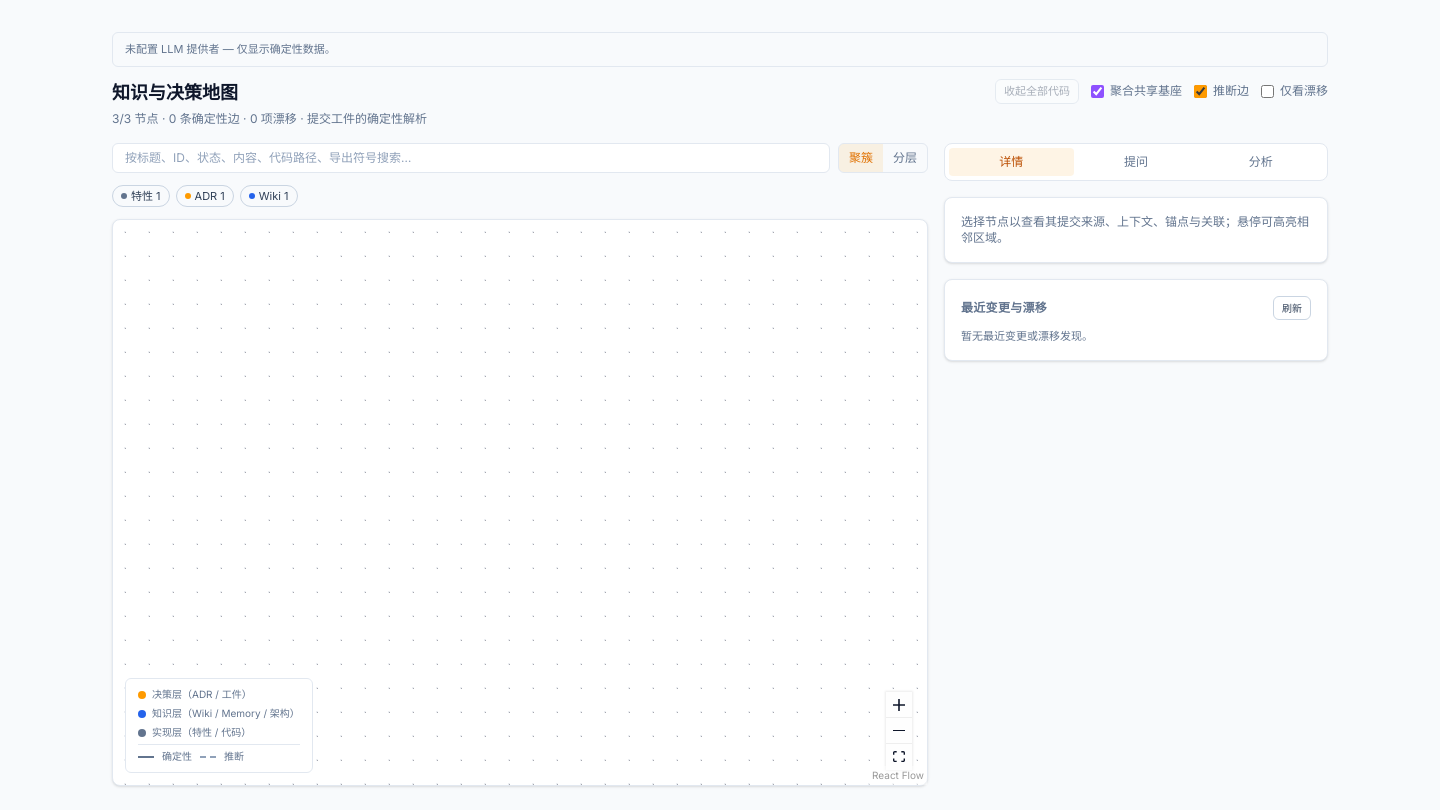
Test: KnowledgeMapPage i18n › renders the Ask disclosure and controls in zh-CN
The image size is (1440, 810).
Click the button "提问": (1136, 162) x1=1074 y1=148 x2=1198 y2=176
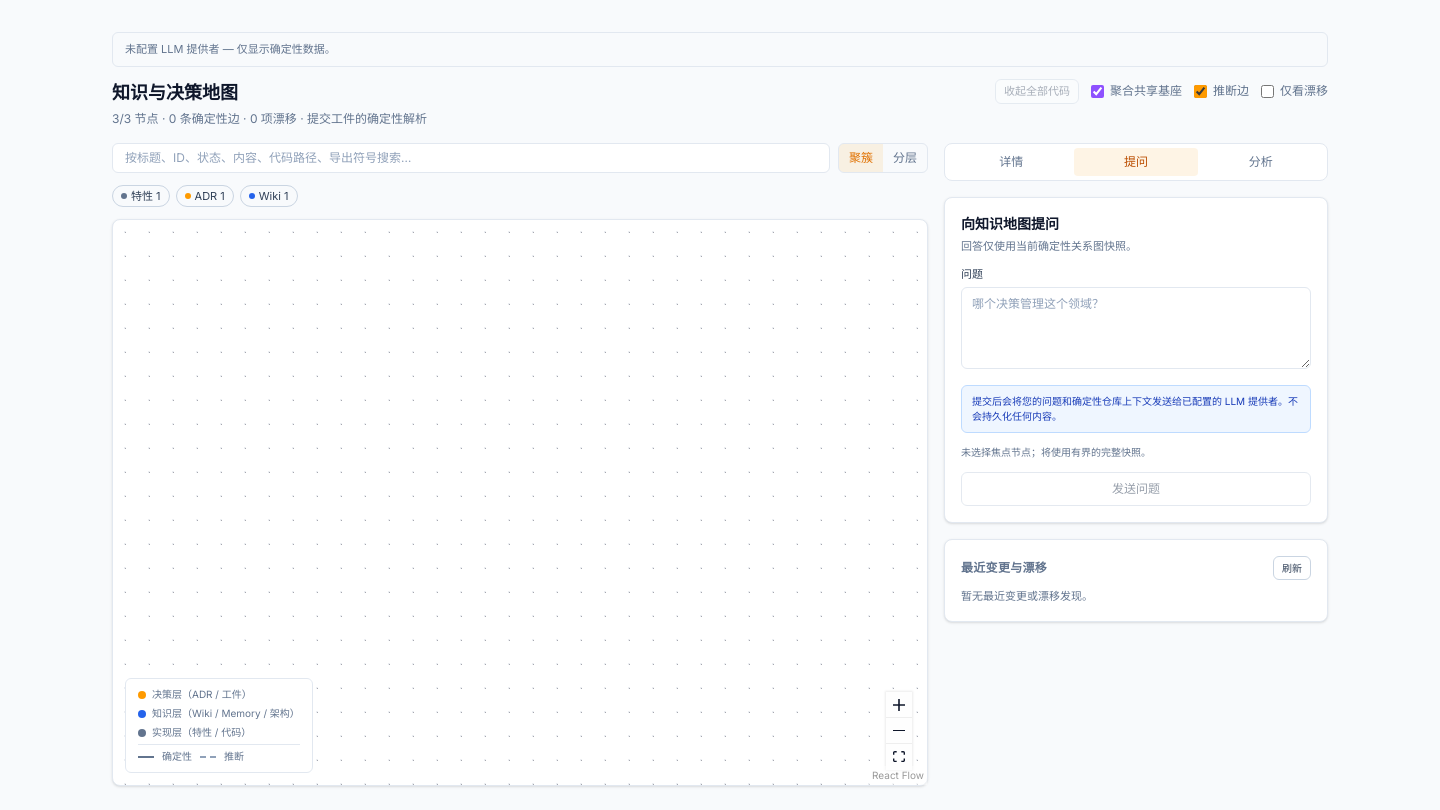
Expected: the heading "向知识地图提问" is shown, x1=961 y1=214 x2=1059 y2=232
Expected: the text "提交后会将您的问题和确定性仓库上下文发送给已配置的 LLM 提供者。不会持久化任何内容。" is shown, x1=961 y1=385 x2=1311 y2=433
Expected: the button "发送问题" is shown, x1=961 y1=472 x2=1311 y2=506
